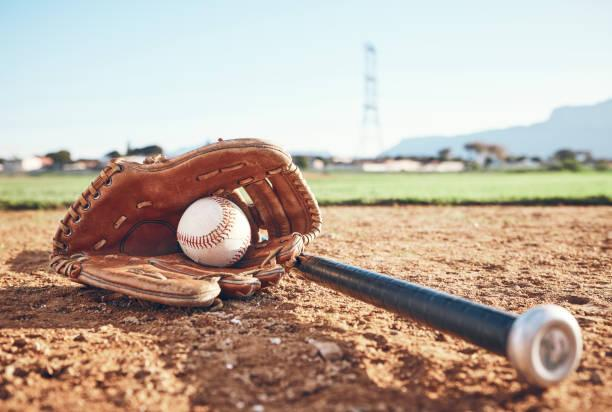baseball: (176, 196, 252, 268)
